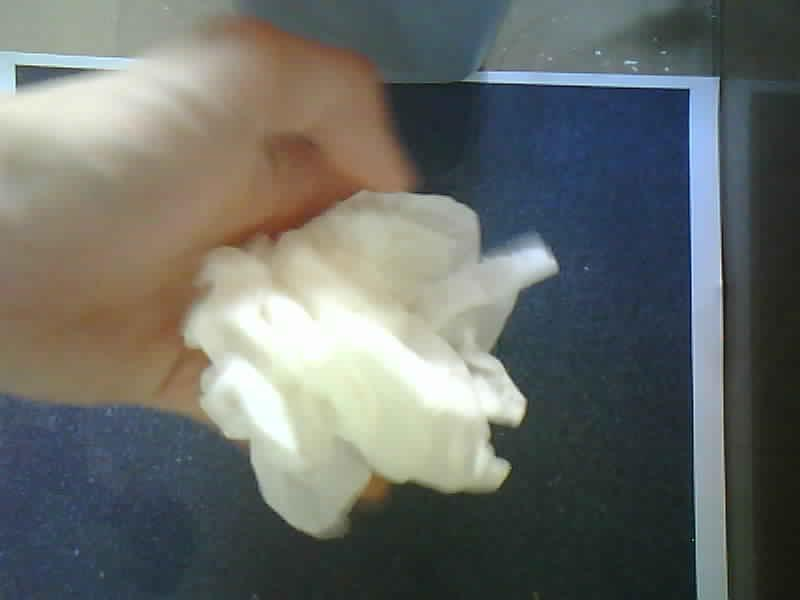paper: (184, 192, 558, 538)
